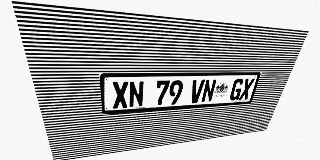7: (154, 80, 170, 106)
9: (168, 80, 184, 105)
G: (228, 79, 245, 101)
N: (129, 81, 144, 108), (201, 79, 217, 103)
V: (189, 80, 205, 103)
X: (112, 81, 128, 109), (238, 78, 255, 100)
